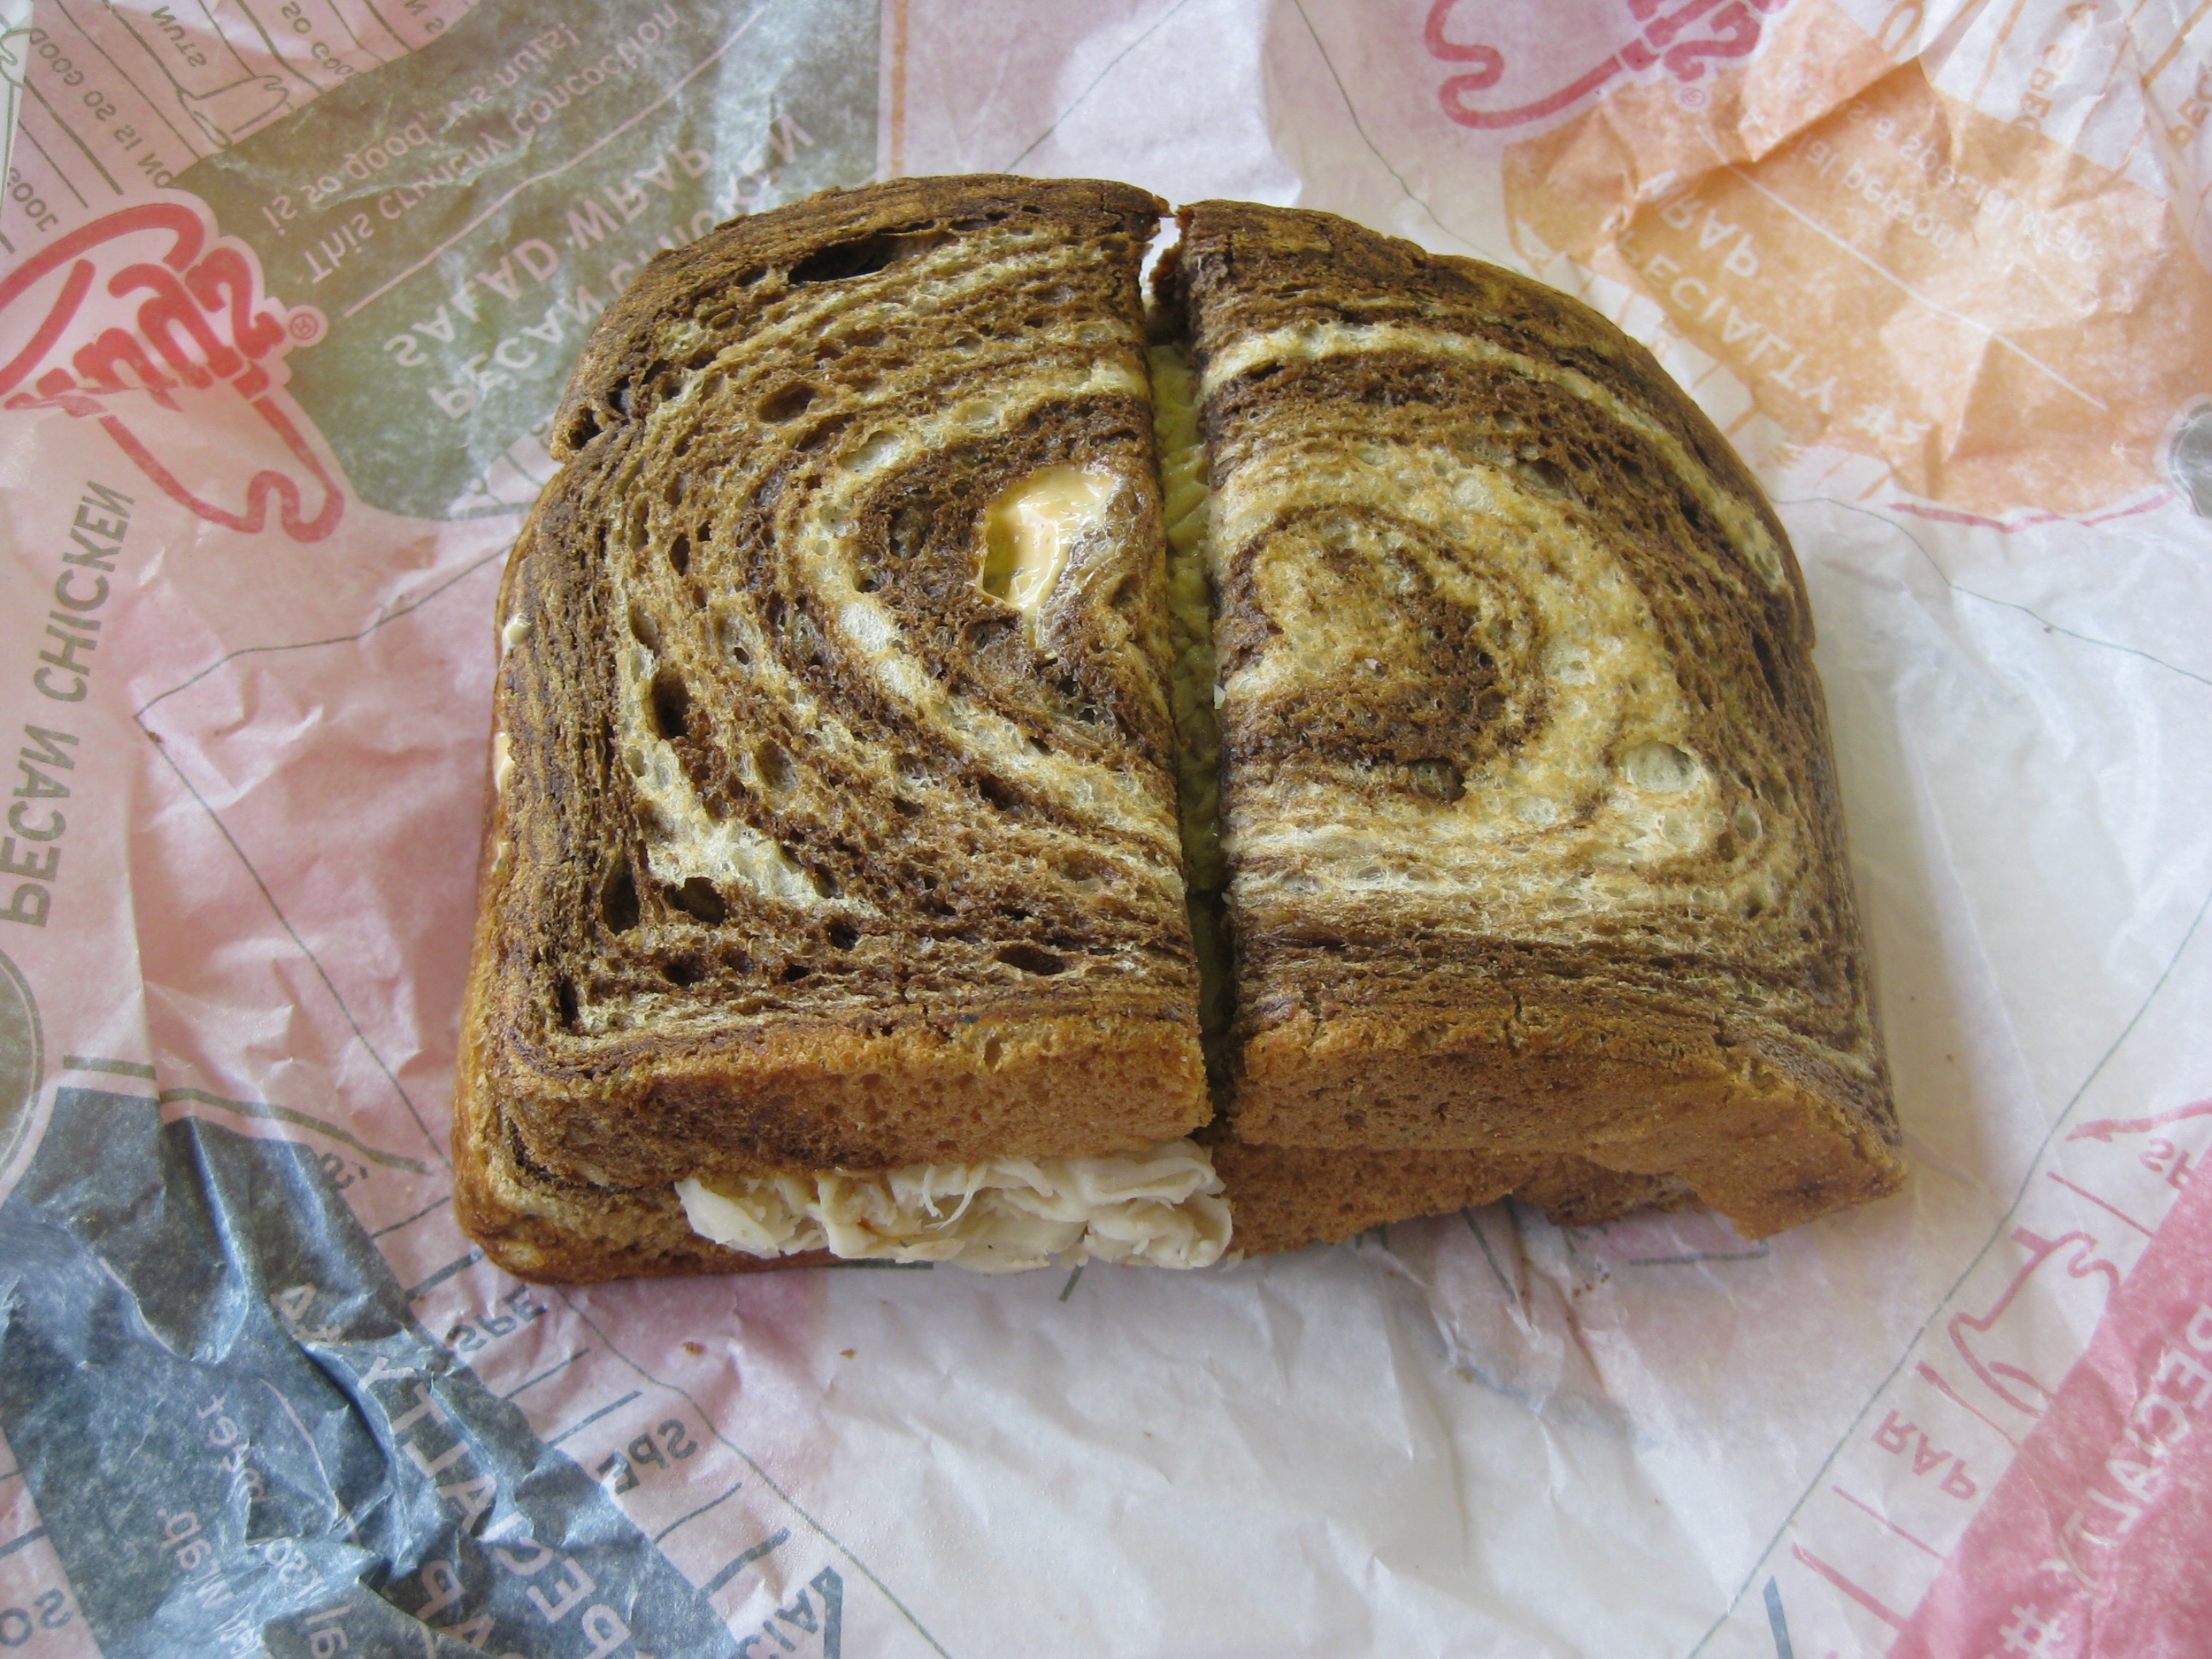sandwich: (426, 114, 1965, 1299)
